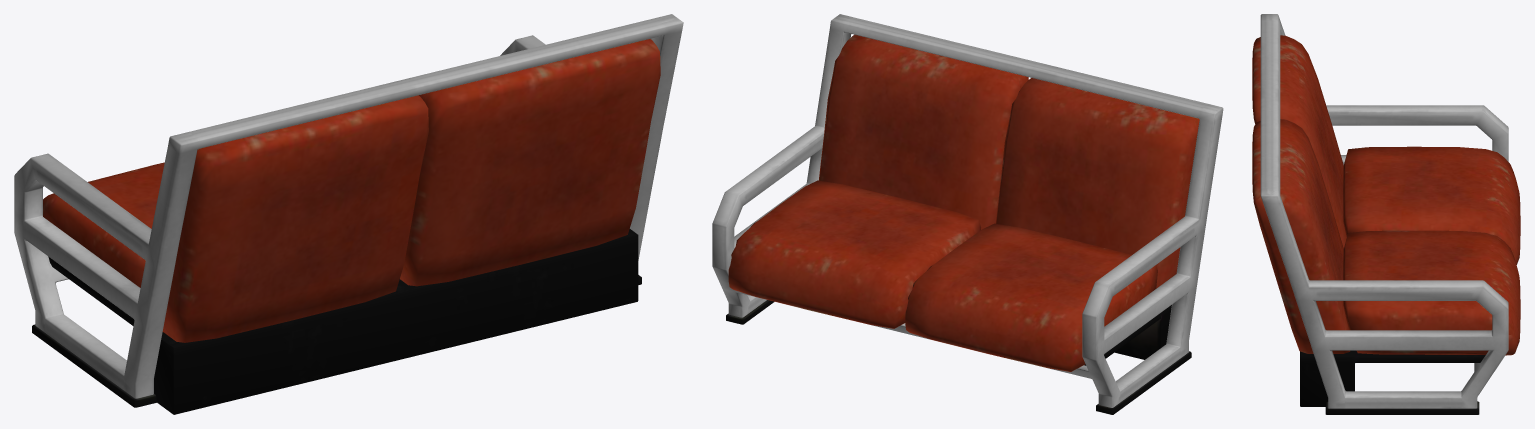
The model's file is Nexus_barArmchair_pref.fbx.
The picture shows the model from 3 angles, left to right: view 1: azimuth 30°, elevation 25°; view 2: azimuth 150°, elevation 25°; view 3: azimuth 270°, elevation 25°; orthographic projection. The views are drawn at different scales.
Visible parts, largest first — view 1: BarArmchair; view 2: BarArmchair; view 3: BarArmchair.
Part boxes in pixels (<box>): BarArmchair: <box>14,14,683,414</box>; BarArmchair: <box>712,14,1223,414</box>; BarArmchair: <box>1252,14,1520,414</box>.
Size of the model in its own units: 160 by 88.91 by 98.98.
Materials: 1 (1 with a texture image).
